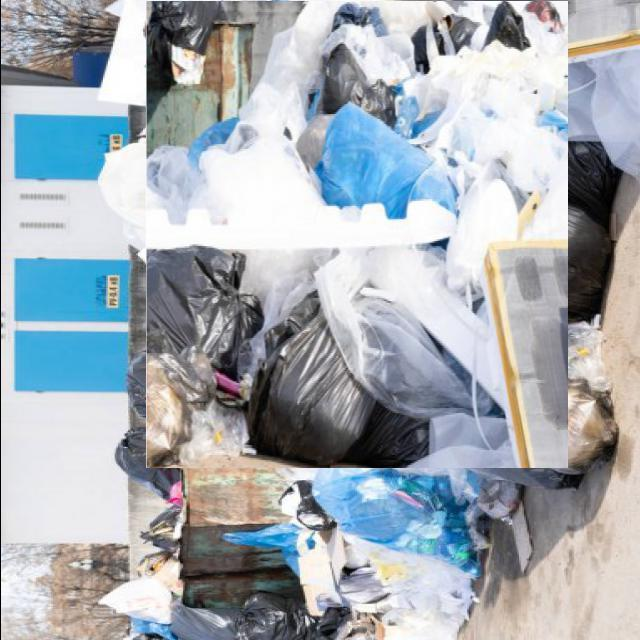Trashbag: (240, 314, 386, 471), (129, 228, 254, 378), (140, 2, 220, 89), (239, 585, 342, 640), (321, 51, 388, 128), (412, 11, 478, 75), (116, 434, 182, 498), (488, 5, 524, 59), (336, 8, 382, 45)
